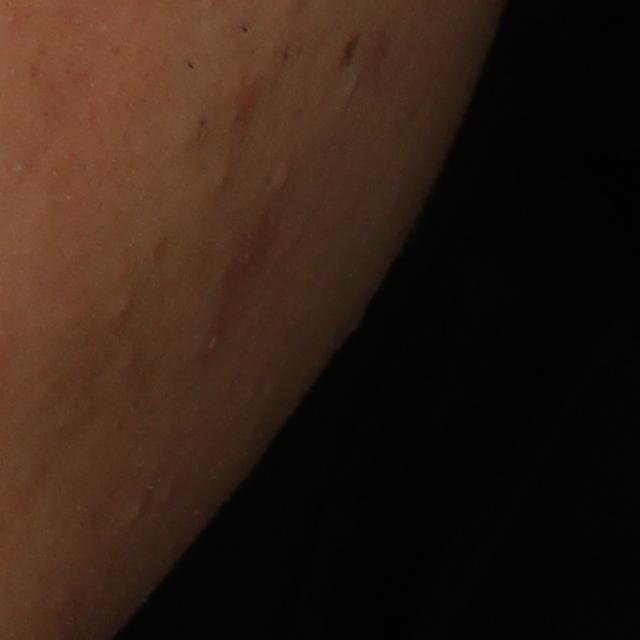comedo: (126, 495, 151, 527), (211, 166, 233, 191)
nevus: (336, 26, 363, 66)
